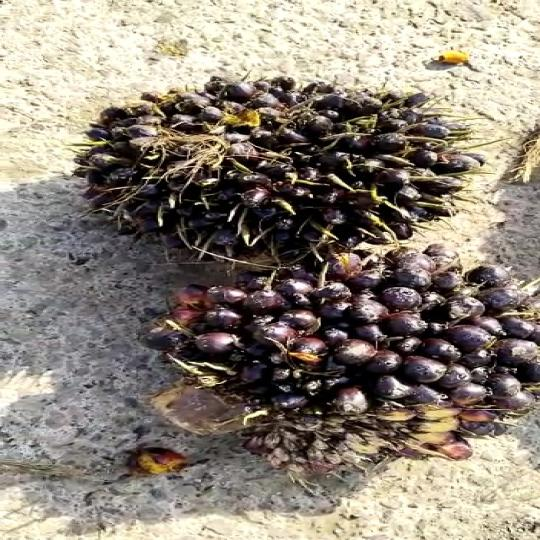mentah: (148, 252, 540, 448), (84, 63, 499, 247)
